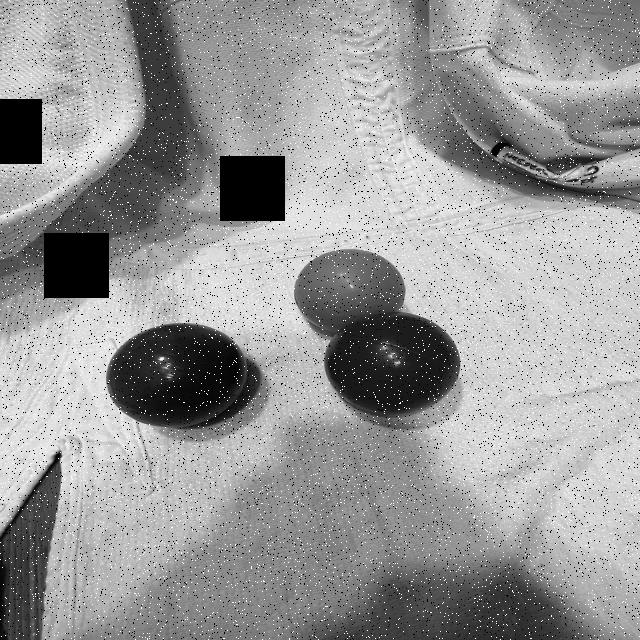ball: (102, 320, 252, 429), (322, 309, 463, 416), (292, 247, 407, 314)
